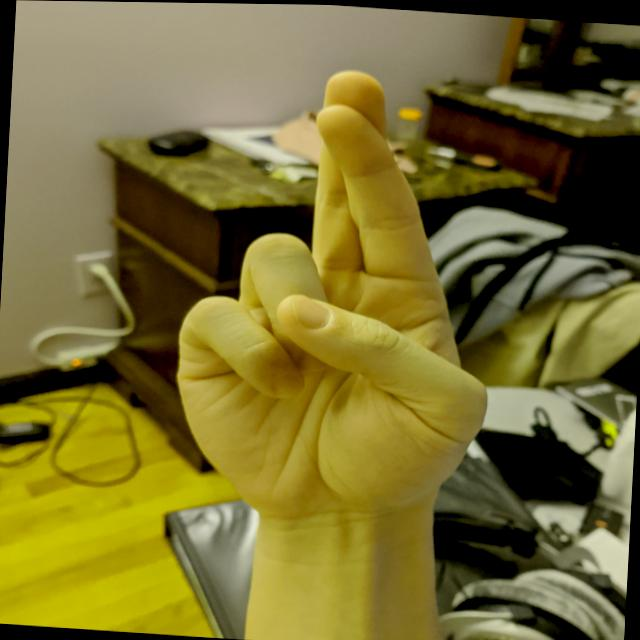R: (156, 50, 518, 535)
